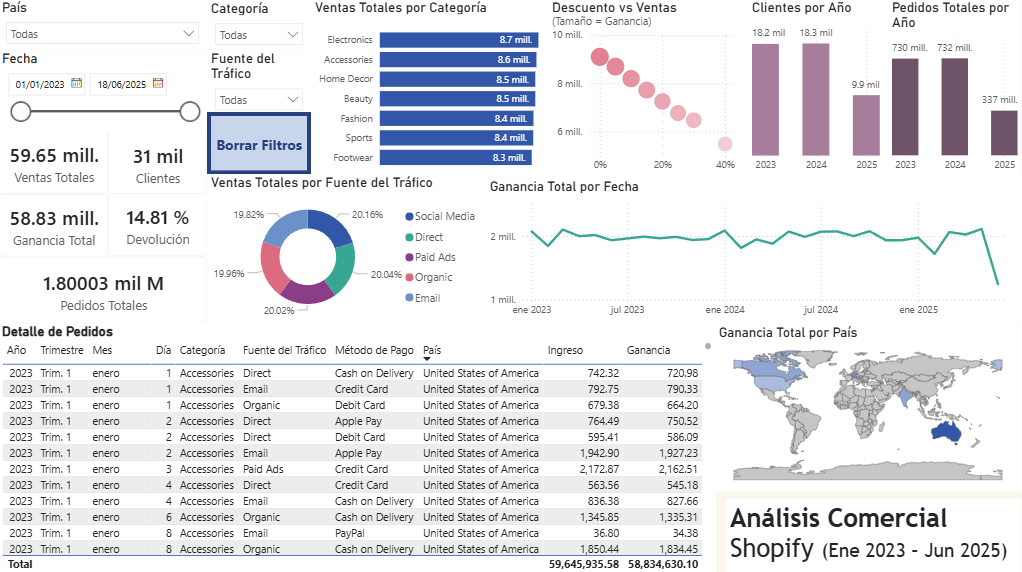

This screenshot's page, from the dashboard's own definition file:
{"tool":"powerbi","page":{"name":"Análisis Comercial Shopify 2023–2025","canvas":[1280,720],"ordinal":0},"visuals":[{"type":"cardVisual","fields":{"Data":["shopify_sales_dataset_ml_eda.Ventas Totales"]},"box":[1.3,165.1,136.7,78.3],"z":0},{"type":"cardVisual","fields":{"Data":["shopify_sales_dataset_ml_eda.Ganancia Total"]},"box":[1.3,243.4,136.7,78.3],"z":1000},{"type":"cardVisual","fields":{"Data":["shopify_sales_dataset_ml_eda.Pedidos Totales"]},"box":[1,322,260,83],"z":2000},{"type":"cardVisual","fields":{"Data":["shopify_sales_dataset_ml_eda.Clientes"]},"box":[138,165,123,80],"z":3000},{"type":"cardVisual","fields":{"Data":["shopify_sales_dataset_ml_eda.Tasa Devolución Promedio"]},"box":[138,243,123,79],"z":4000},{"type":"slicer","title":"País","fields":{"Values":["shopify_sales_dataset_ml_eda.customer_country"]},"box":[0,0,261,63],"z":5000},{"type":"slicer","title":"Fecha","fields":{"Values":["shopify_sales_dataset_ml_eda.order_date"]},"box":[0,64,261,103],"z":6000},{"type":"slicer","title":"Categoría","fields":{"Values":["shopify_sales_dataset_ml_eda.product_category"]},"box":[261,1,130,62],"z":7000},{"type":"slicer","title":"Fuente del Tráfico","fields":{"Values":["shopify_sales_dataset_ml_eda.traffic_source"]},"box":[261,64,130,77],"z":8000},{"type":"actionButton","box":[261,141,130,78],"z":9000},{"type":"scatterChart","title":"Descuento vs Ventas","fields":{"Y":["shopify_sales_dataset_ml_eda.Ventas Totales"],"X":["shopify_sales_dataset_ml_eda.Descuento Decimal"],"Size":["shopify_sales_dataset_ml_eda.Ganancia Total"]},"box":[687.1,0,250,225.7],"z":10000},{"type":"lineChart","title":"Ganancia Total por Fecha","fields":{"Y":["shopify_sales_dataset_ml_eda.Ganancia Total"],"Category":["shopify_sales_dataset_ml_eda.order_date.Variación.Jerarquía de fechas.Año","shopify_sales_dataset_ml_eda.order_date.Variación.Jerarquía de fechas.Trimestre","shopify_sales_dataset_ml_eda.order_date.Variación.Jerarquía de fechas.Mes"]},"box":[610,223.3,670,182.2],"z":11000},{"type":"barChart","title":"Ventas Totales por Categoría","fields":{"Category":["shopify_sales_dataset_ml_eda.product_category"],"Y":["shopify_sales_dataset_ml_eda.Ventas Totales"]},"box":[391.4,0,295.7,222.9],"z":12000},{"type":"clusteredColumnChart","fields":{"Y":["shopify_sales_dataset_ml_eda.Pedidos Totales"],"Category":["shopify_sales_dataset_ml_eda.order_date.Variación.Jerarquía de fechas.Año"]},"box":[1113.1,0,166.9,225.4],"z":13000},{"type":"columnChart","fields":{"Category":["shopify_sales_dataset_ml_eda.order_date.Variación.Jerarquía de fechas.Año"],"Y":["shopify_sales_dataset_ml_eda.Clientes"]},"box":[937.1,0,175.7,225.7],"z":14000},{"type":"donutChart","title":"Ventas Totales por Fuente del Tráfico","fields":{"Category":["shopify_sales_dataset_ml_eda.traffic_source"],"Y":["shopify_sales_dataset_ml_eda.Ventas Totales"]},"box":[261,219,349,188],"z":15000},{"type":"tableEx","title":"Detalle de Pedidos","fields":{"Values":["shopify_sales_dataset_ml_eda.order_date.Variación.Jerarquía de fechas.Año","shopify_sales_dataset_ml_eda.order_date.Variación.Jerarquía de fechas.Trimestre","shopify_sales_dataset_ml_eda.order_date.Variación.Jerarquía de fechas.Mes","shopify_sales_dataset_ml_eda.order_date.Variación.Jerarquía de fechas.Día","shopify_sales_dataset_ml_eda.product_category","shopify_sales_dataset_ml_eda.traffic_source","shopify_sales_dataset_ml_eda.payment_method","shopify_sales_dataset_ml_eda.customer_country","Sum(shopify_sales_dataset_ml_eda.revenue)","Sum(shopify_sales_dataset_ml_eda.profit)"]},"box":[0,405,896.7,315],"z":16000},{"type":"shapeMap","title":"Ganancia Total por País","fields":{"Value":["shopify_sales_dataset_ml_eda.Ganancia Total"],"Category":["shopify_sales_dataset_ml_eda.customer_country"]},"box":[896.2,406.2,382.5,208.8],"z":17000},{"type":"textbox","box":[910,625,368.8,95],"z":17001}]}

Visuals, with their boxes in screenshot pixels (x1, y1, x2, y2), scaled from the page's 1280x720 canvas onto the 1022x572 screenshot:
cardVisual - shopify_sales_dataset_ml_eda.Ventas Totales: bbox=[1, 131, 110, 193]
cardVisual - shopify_sales_dataset_ml_eda.Ganancia Total: bbox=[1, 193, 110, 256]
cardVisual - shopify_sales_dataset_ml_eda.Pedidos Totales: bbox=[1, 256, 208, 322]
cardVisual - shopify_sales_dataset_ml_eda.Clientes: bbox=[110, 131, 208, 195]
cardVisual - shopify_sales_dataset_ml_eda.Tasa Devolución Promedio: bbox=[110, 193, 208, 256]
"País" slicer: bbox=[0, 0, 208, 50]
"Fecha" slicer: bbox=[0, 51, 208, 133]
"Categoría" slicer: bbox=[208, 1, 312, 50]
"Fuente del Tráfico" slicer: bbox=[208, 51, 312, 112]
actionButton: bbox=[208, 112, 312, 174]
"Descuento vs Ventas" scatterChart: bbox=[549, 0, 748, 179]
"Ganancia Total por Fecha" lineChart: bbox=[487, 177, 1021, 322]
"Ventas Totales por Categoría" barChart: bbox=[313, 0, 549, 177]
clusteredColumnChart - shopify_sales_dataset_ml_eda.Pedidos Totales x shopify_sales_dataset_ml_eda.order_date.Variación.Jerarquía de fechas.Año: bbox=[889, 0, 1021, 179]
columnChart - shopify_sales_dataset_ml_eda.order_date.Variación.Jerarquía de fechas.Año x shopify_sales_dataset_ml_eda.Clientes: bbox=[748, 0, 889, 179]
"Ventas Totales por Fuente del Tráfico" donutChart: bbox=[208, 174, 487, 323]
"Detalle de Pedidos" tableEx: bbox=[0, 322, 716, 571]
"Ganancia Total por País" shapeMap: bbox=[716, 323, 1021, 489]
textbox: bbox=[727, 497, 1021, 571]
